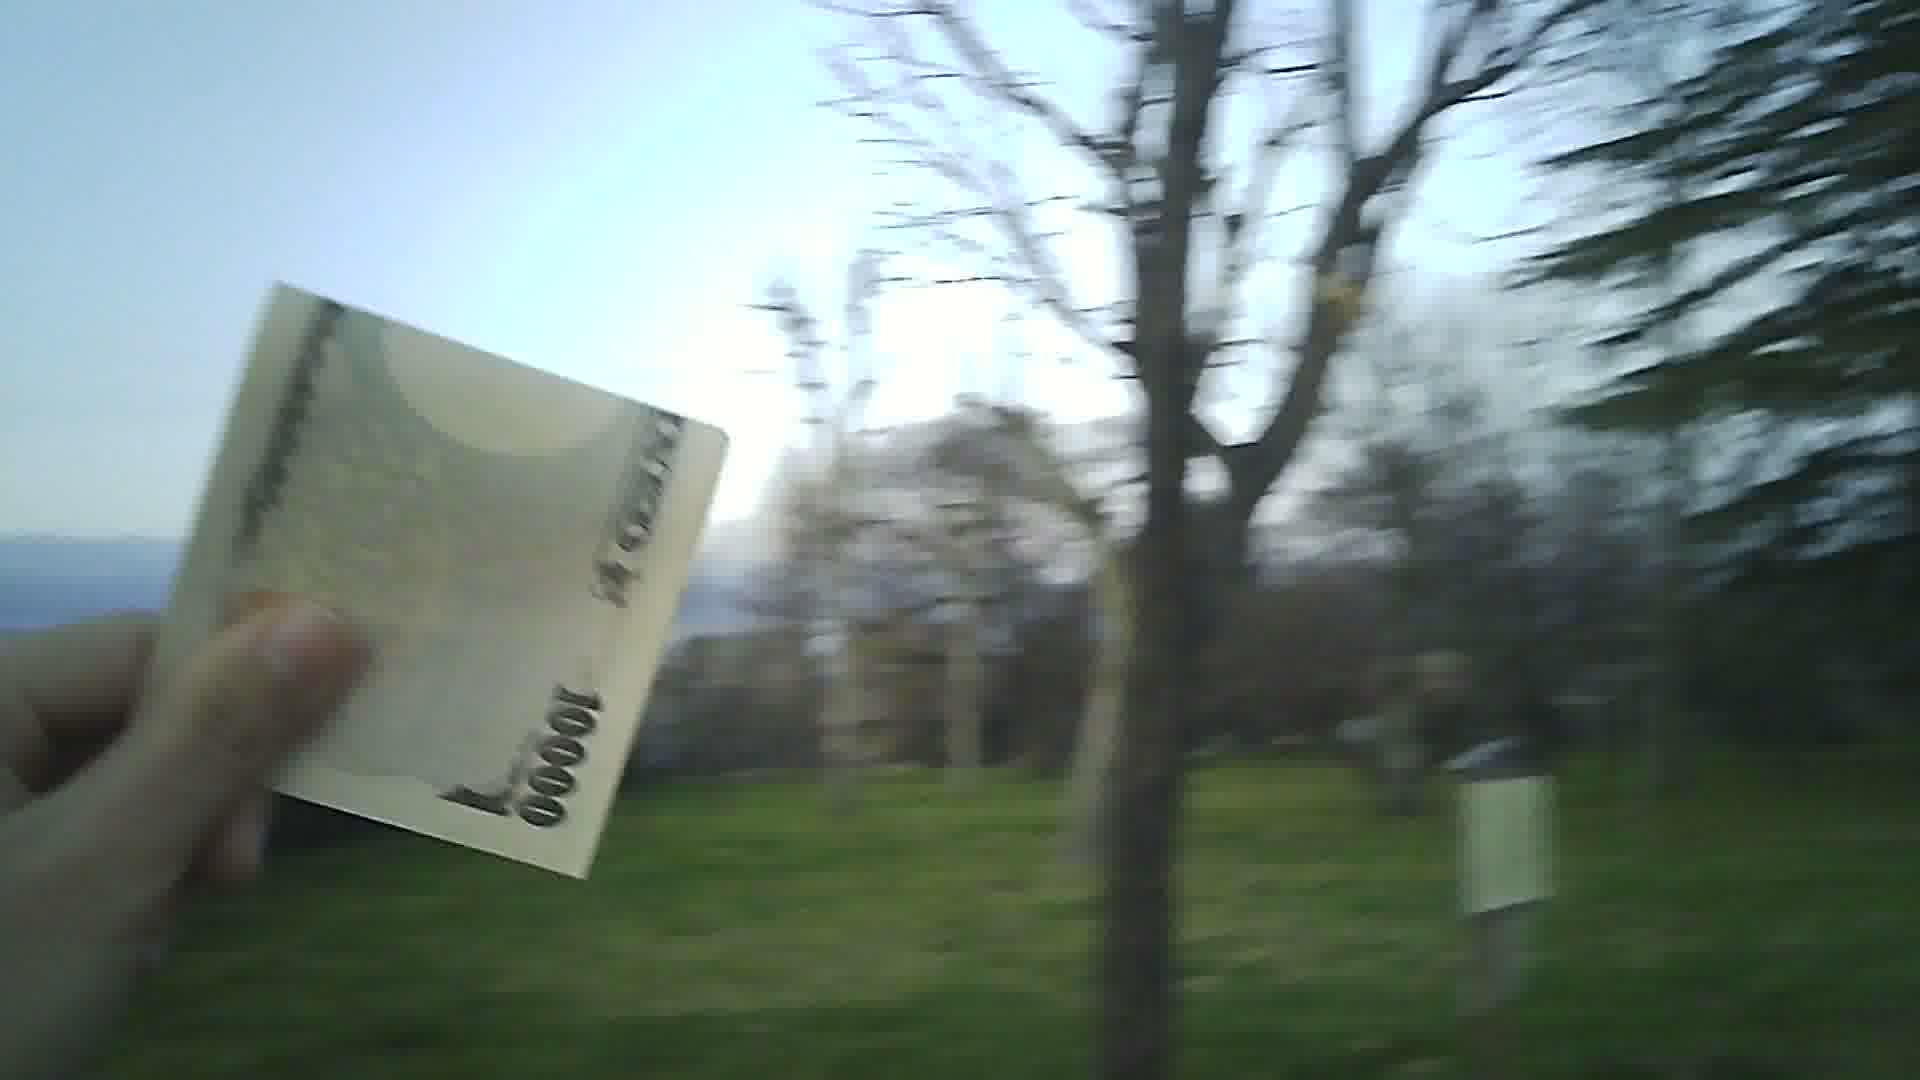10,000 Yen: (167, 274, 713, 874)
